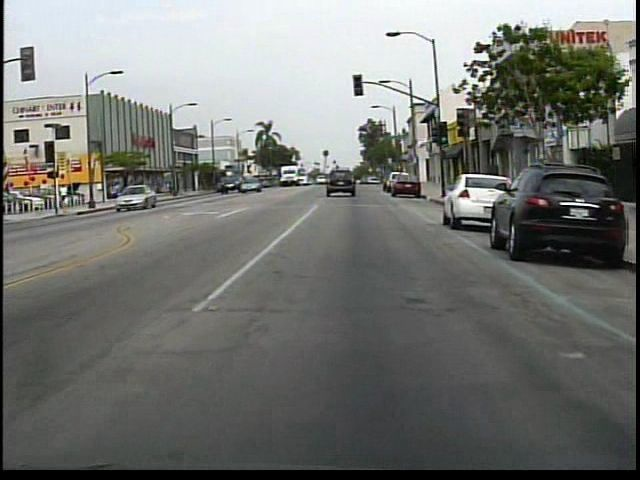person: (60, 182, 72, 211)
